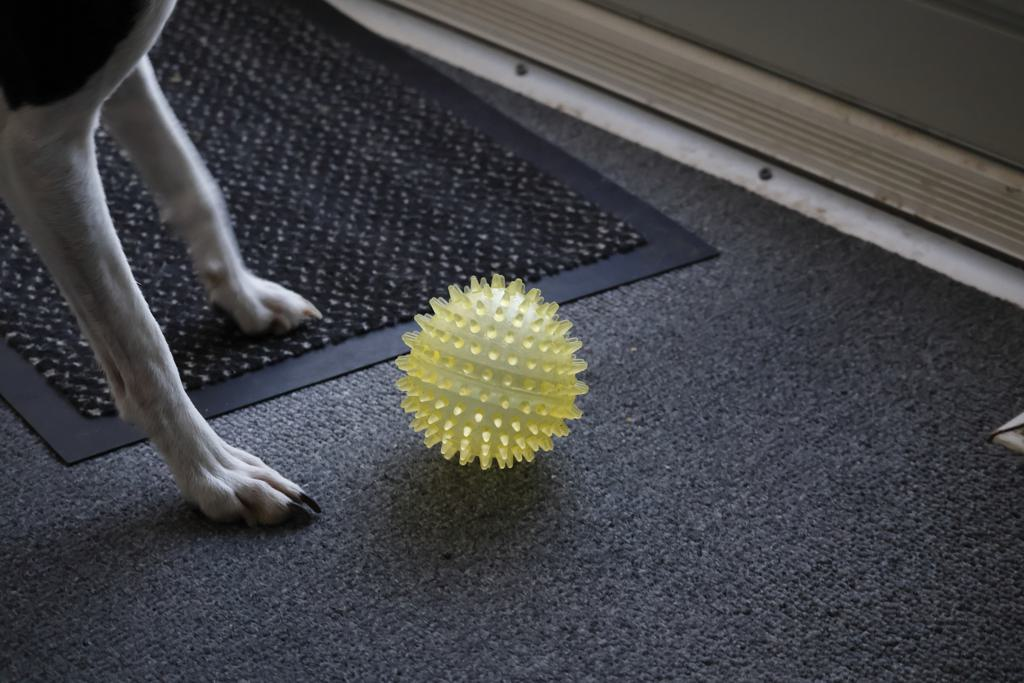Dog: (0, 0, 353, 544)
